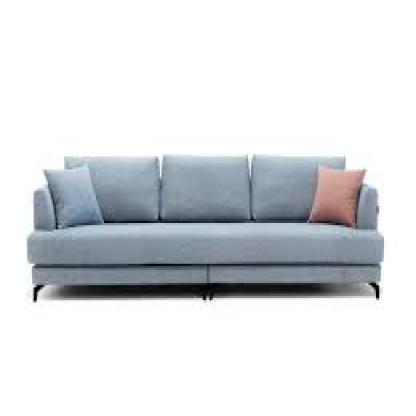sofa: (31, 152, 388, 307)
